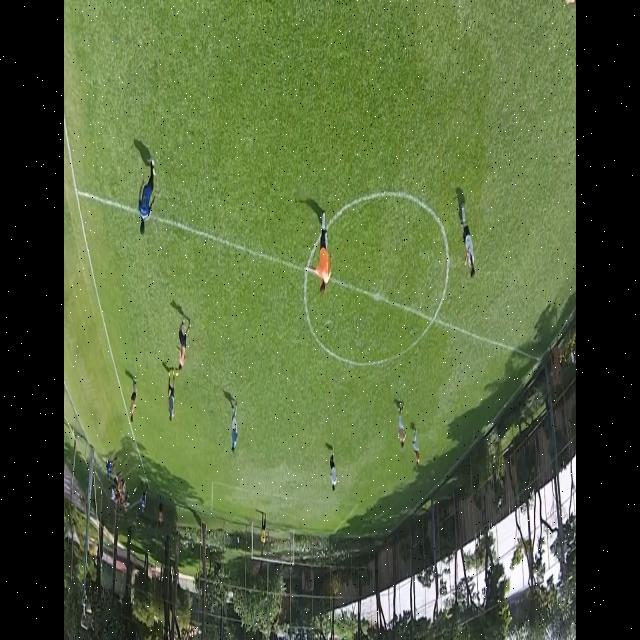humans: (304, 211, 334, 300), (458, 197, 478, 286), (136, 153, 156, 241), (176, 309, 190, 378), (165, 366, 179, 428), (393, 398, 408, 453), (125, 377, 138, 429), (326, 443, 338, 499), (410, 424, 422, 475), (258, 511, 270, 552)
